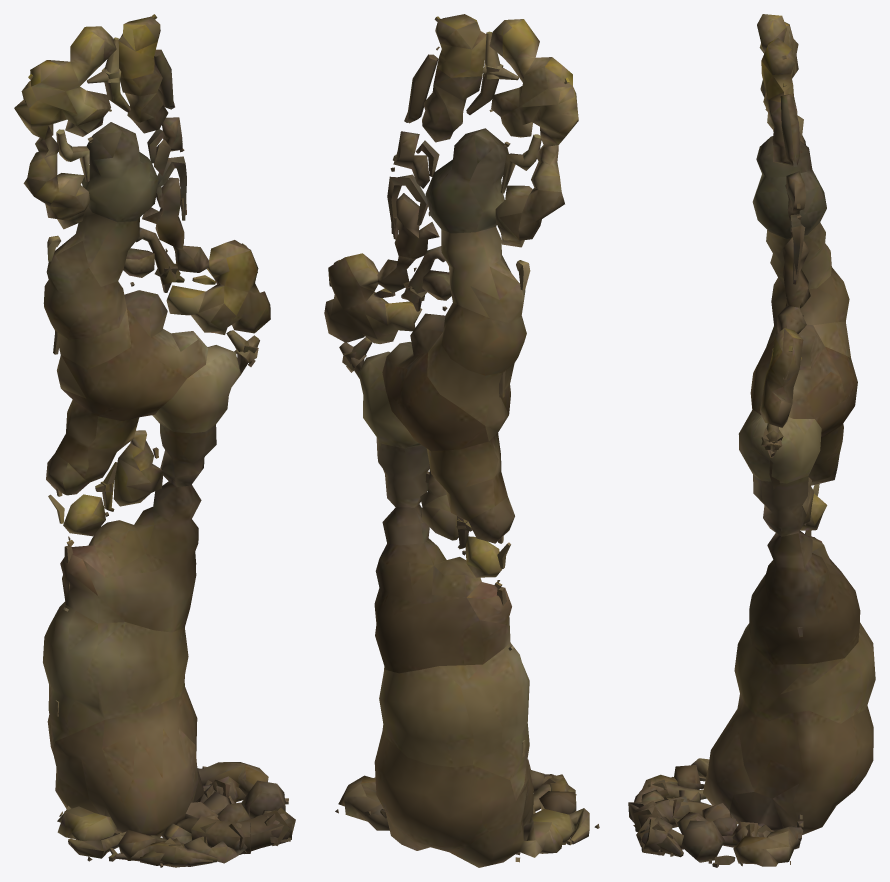
File: sunnycomb.glb
3 renders of one model, left to right at view 1: azimuth 30°, elevation 25°; view 2: azimuth 150°, elevation 25°; view 3: azimuth 270°, elevation 25°, orthographic. The views are drawn at different scales.
Visible parts, largest first — view 1: body; view 2: body; view 3: body.
Boxes of the visible parts, <box> form: body: <box>14,14,295,867</box>; body: <box>324,14,599,867</box>; body: <box>628,14,875,867</box>.
Size of the model in its own units: 1.98 by 6.08 by 1.74.
Materials: 1 (1 with a texture image).
